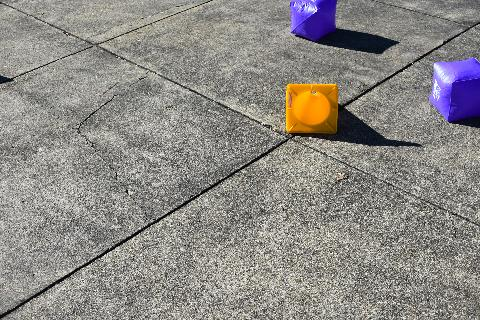cone: (286, 83, 338, 135)
cube: (428, 56, 480, 124), (290, 0, 338, 42)
